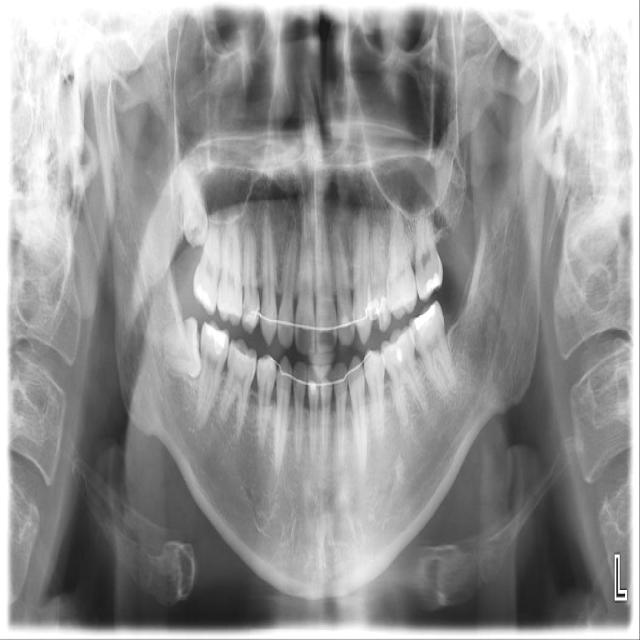Filling: (202, 321, 230, 356), (413, 305, 436, 334), (197, 283, 213, 311), (423, 272, 440, 296), (393, 340, 402, 361)
impacted tooth: (173, 159, 207, 243), (151, 320, 199, 377)
